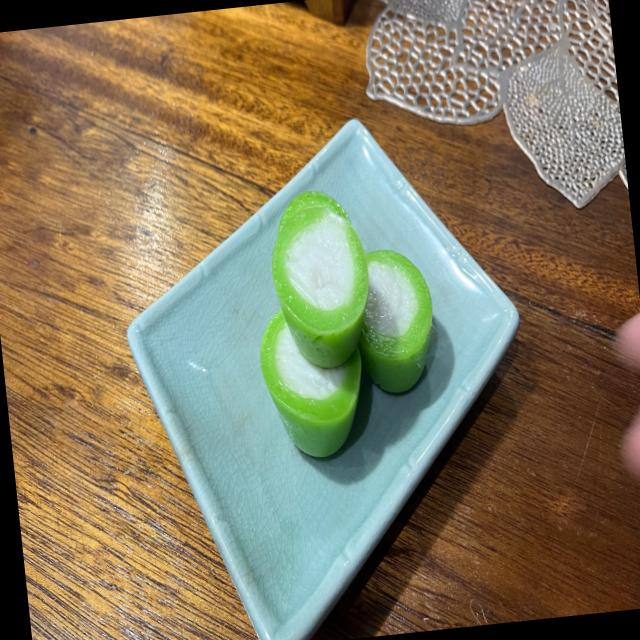nona-manis: (271, 206, 368, 368), (260, 311, 361, 457), (358, 250, 432, 393), (278, 191, 348, 231)
